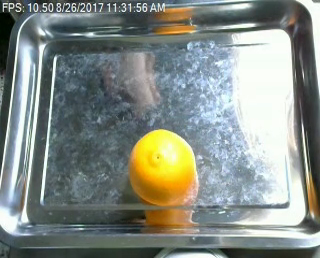Orange: (129, 127, 198, 206)
